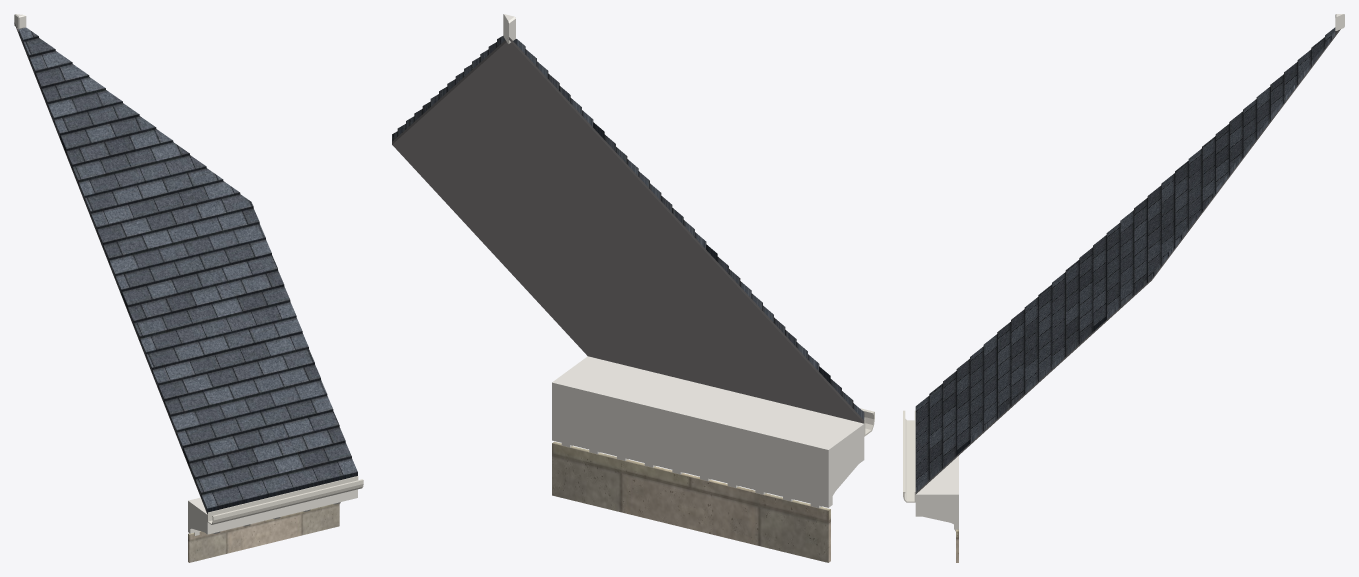
The model's file is roof_r3.glb.
The picture shows the model from 3 angles, left to right: view 1: azimuth 30°, elevation 25°; view 2: azimuth 150°, elevation 25°; view 3: azimuth 270°, elevation 25°; orthographic projection. The views are drawn at different scales.
Parts seen in each view (by area): view 1: roof_r3_shingles, roof_r3_stone_t, roof_r3_trim, roof_r3_gutter, roof_r3_dark; view 2: roof_r3_dark, roof_r3_trim, roof_r3_stone_t, roof_r3_shingles; view 3: roof_r3_shingles, roof_r3_trim, roof_r3_gutter, roof_r3_dark.
Boxes of the visible parts, x1,y1,x2,y2 form: roof_r3_shingles: (18,27,357,512); roof_r3_stone_t: (188,503,339,562); roof_r3_trim: (14,14,357,535); roof_r3_gutter: (207,476,363,524); roof_r3_dark: (14,22,207,514); roof_r3_dark: (392,37,864,423); roof_r3_trim: (503,14,864,508); roof_r3_stone_t: (552,441,830,562); roof_r3_shingles: (392,36,864,420); roof_r3_shingles: (915,27,1335,492); roof_r3_trim: (915,14,1344,531); roof_r3_gutter: (903,410,915,502); roof_r3_dark: (915,29,1340,494).
Size of the model in its own units: 2 by 5.35 by 4.58.
Materials: 5 (2 with a texture image).
